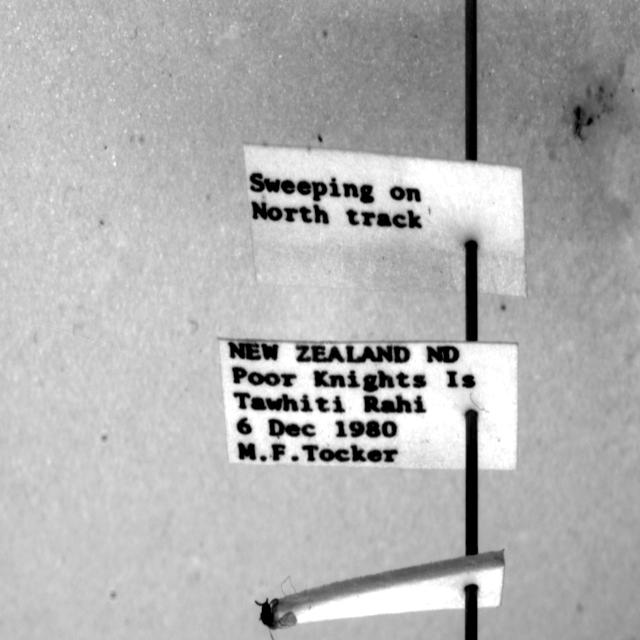typed_label: (244, 144, 526, 296), (219, 339, 518, 469)
